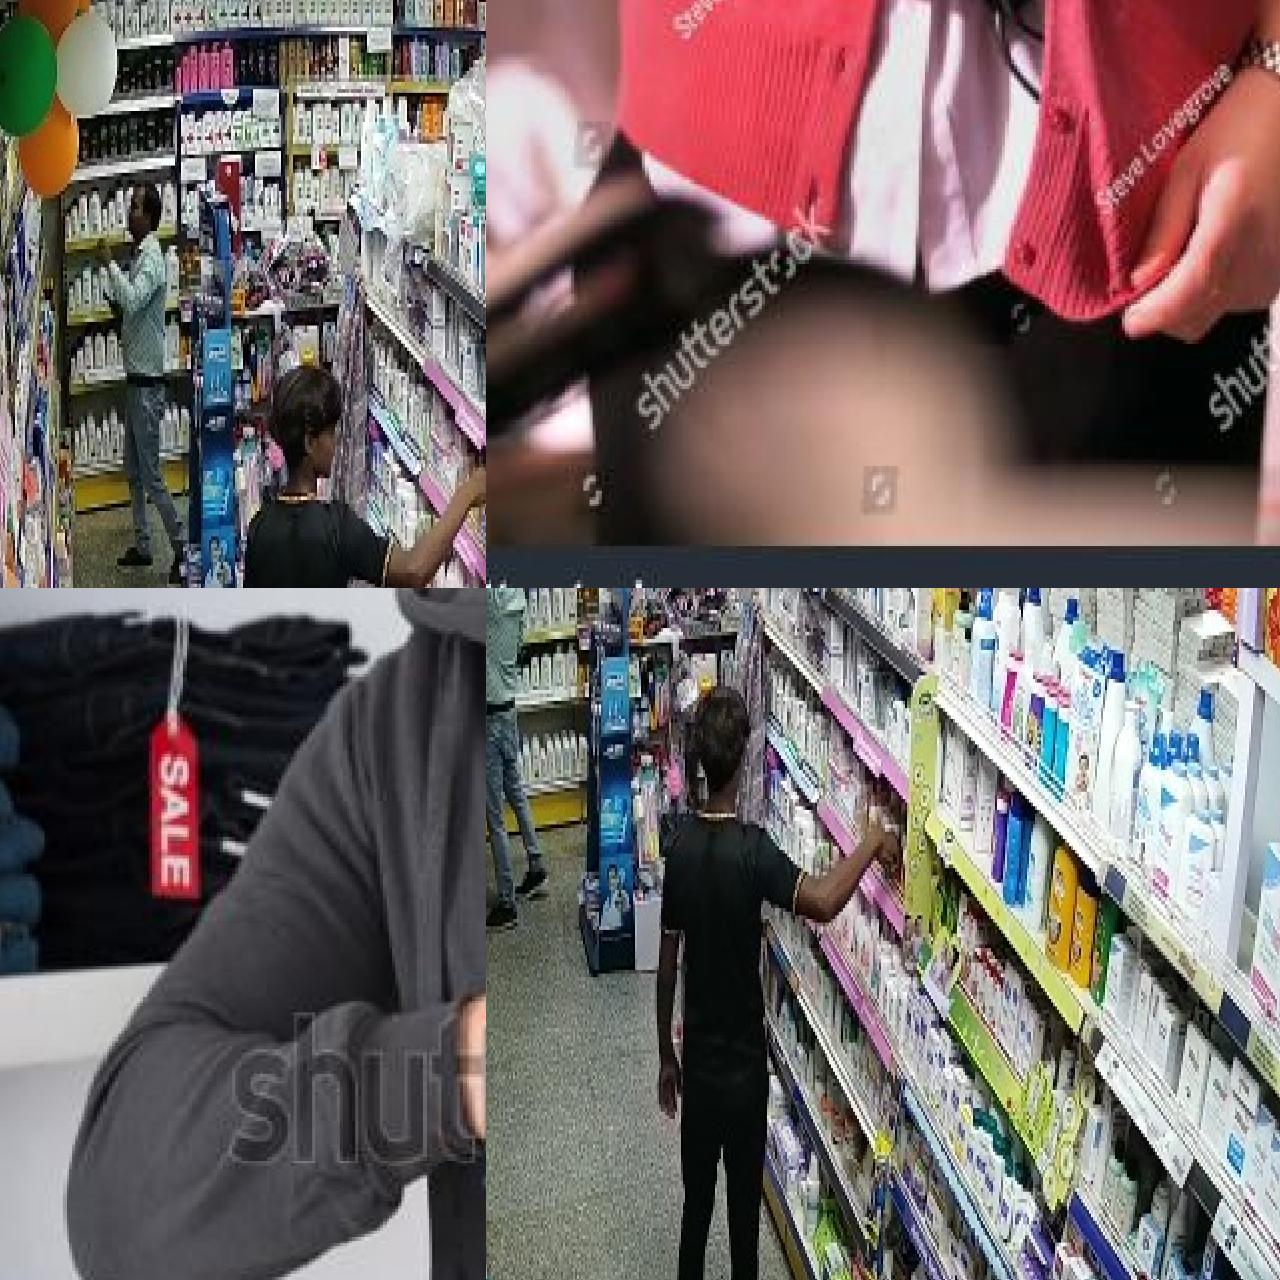Shoplifting: (771, 0, 1280, 527)
normal: (586, 615, 845, 1280), (176, 390, 434, 588)
